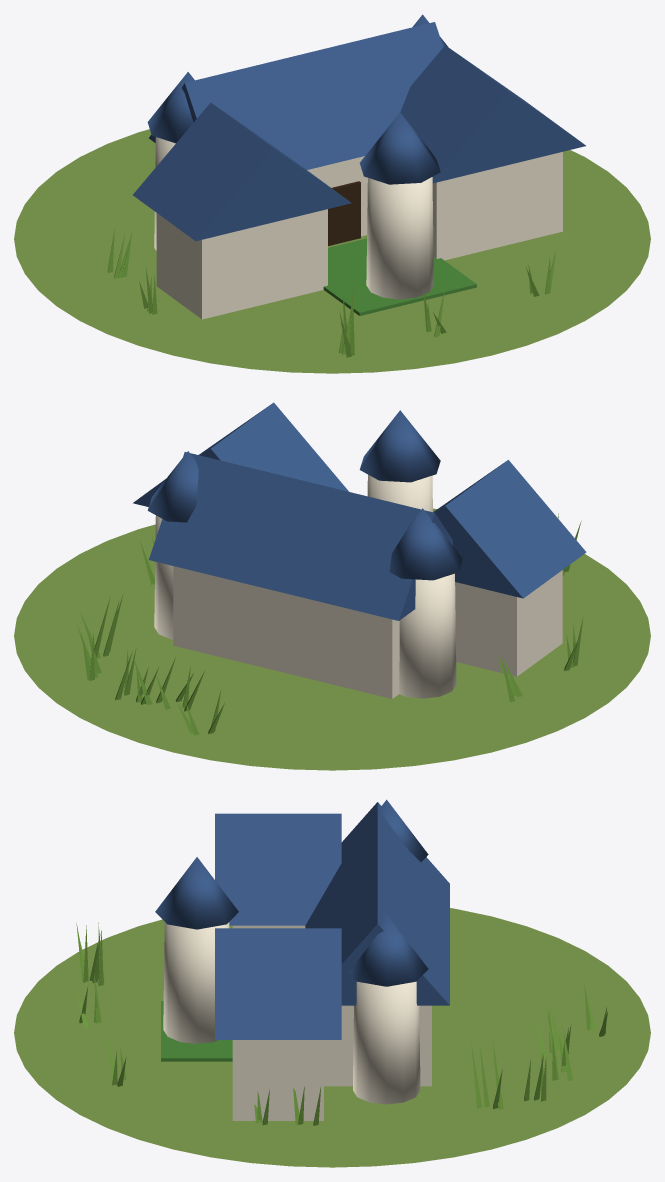
Rendered from improvement_chateau.fbx.
The picture shows the model from 3 angles, top to bottom: view 1: azimuth 30°, elevation 25°; view 2: azimuth 150°, elevation 25°; view 3: azimuth 270°, elevation 25°; orthographic projection.
Parts seen in each view (by area): view 1: improvement_chateau_gpatch#7a9a4ar_00, improvement_chateau_chr_03, improvement_chateau_chw_02, improvement_chateau_chgarden_05, improvement_chateau_leaf#6a9a3a.018_01, improvement_chateau_door.009_04; view 2: improvement_chateau_gpatch#7a9a4ar_00, improvement_chateau_chr_03, improvement_chateau_chw_02, improvement_chateau_leaf#6a9a3a.018_01; view 3: improvement_chateau_gpatch#7a9a4ar_00, improvement_chateau_chr_03, improvement_chateau_chw_02, improvement_chateau_leaf#6a9a3a.018_01, improvement_chateau_chgarden_05.
Part boxes in pixels (bbox=[...]): improvement_chateau_gpatch#7a9a4ar_00: bbox=[14, 129, 650, 373]; improvement_chateau_chr_03: bbox=[133, 14, 585, 241]; improvement_chateau_chw_02: bbox=[154, 137, 562, 319]; improvement_chateau_chgarden_05: bbox=[323, 238, 476, 315]; improvement_chateau_leaf#6a9a3a.018_01: bbox=[107, 229, 556, 357]; improvement_chateau_door.009_04: bbox=[328, 181, 360, 245]; improvement_chateau_gpatch#7a9a4ar_00: bbox=[14, 508, 650, 770]; improvement_chateau_chr_03: bbox=[133, 402, 586, 620]; improvement_chateau_chw_02: bbox=[154, 474, 562, 698]; improvement_chateau_leaf#6a9a3a.018_01: bbox=[77, 513, 583, 735]; improvement_chateau_gpatch#7a9a4ar_00: bbox=[14, 908, 650, 1167]; improvement_chateau_chr_03: bbox=[155, 799, 449, 1039]; improvement_chateau_chw_02: bbox=[163, 922, 431, 1120]; improvement_chateau_leaf#6a9a3a.018_01: bbox=[76, 922, 607, 1125]; improvement_chateau_chgarden_05: bbox=[161, 1001, 232, 1061].
Bounding box in the file's own units: 141 × 43.92 × 141.
